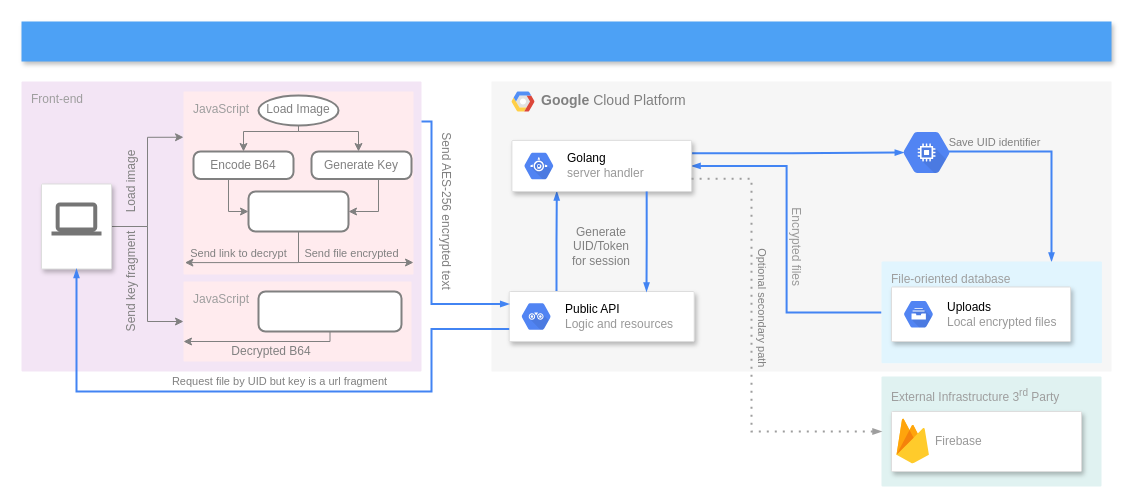
Image size: 1134x503. Some labels were removed from this diagram. The centre of each missing label's shape, as x and y in pixels:
Architecture: CryptoPix > Backend and frontend: (x=567, y=42)
Clients: (x=77, y=227)
Encode text in AES256: (x=298, y=211)
Get Key from fragment and decode B64: (x=329, y=311)
Rutines: (x=926, y=152)
